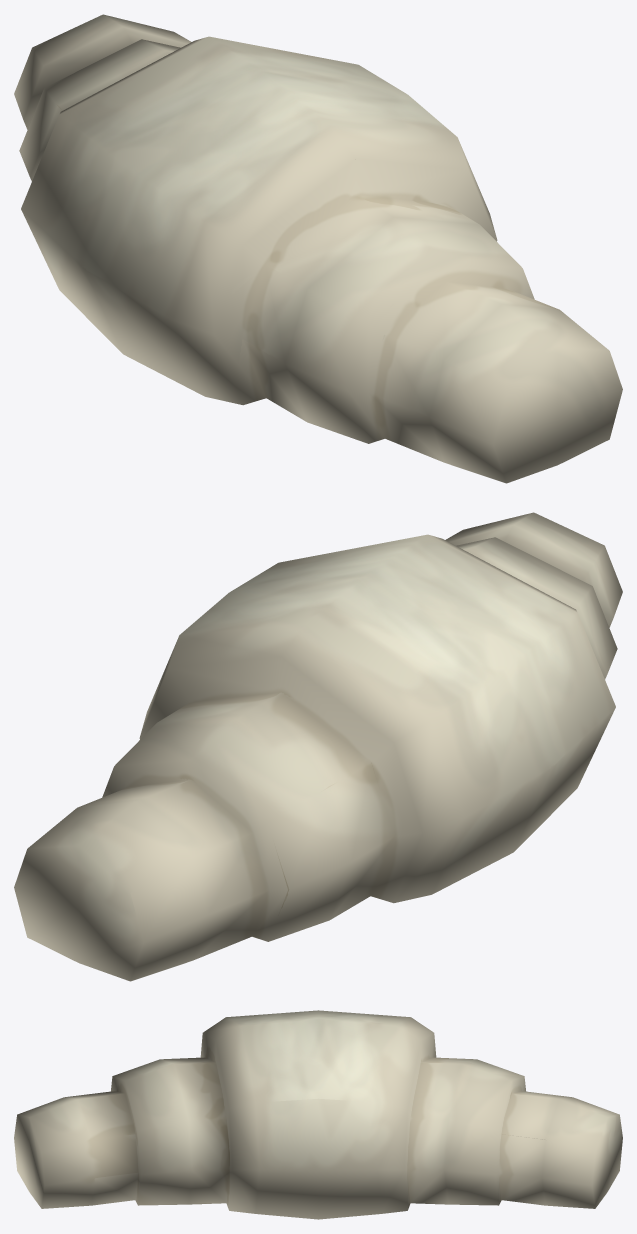
The model's file is croissant.fbx.
3 views of the same model, one above another, from view 1: azimuth 30°, elevation 25°; view 2: azimuth 150°, elevation 25°; view 3: azimuth 270°, elevation 25° (orthographic). The views are drawn at different scales.
Parts seen in each view (by area): view 1: Croissant; view 2: Croissant; view 3: Croissant.
Part boxes in pixels (box(x1,y1,x2,y2)): Croissant: box(14, 14, 622, 483); Croissant: box(14, 512, 622, 981); Croissant: box(14, 1010, 622, 1219).
Bounding box in the file's own units: 25.49 × 16.92 × 58.35.
